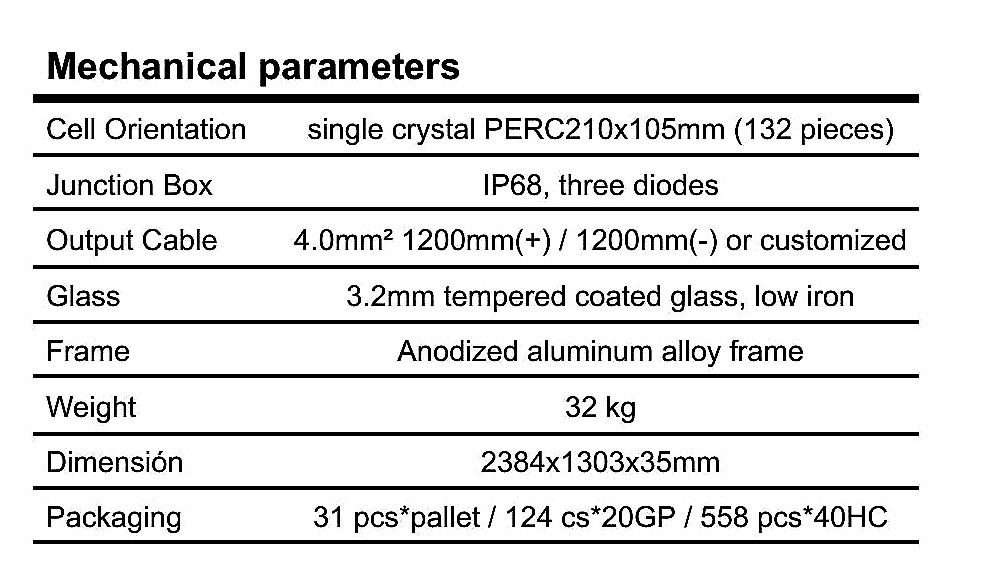table: (15, 36, 940, 554)
table column: (259, 42, 930, 540), (26, 39, 258, 542)
table name: (21, 40, 924, 94)
table row: (25, 211, 928, 265), (25, 39, 923, 92), (27, 379, 926, 430), (24, 271, 930, 317), (23, 158, 928, 204), (26, 106, 927, 152), (27, 438, 926, 484), (30, 491, 928, 537), (25, 326, 926, 371)
table row header: (23, 38, 260, 541)
table spanning cell: (23, 42, 923, 93)
